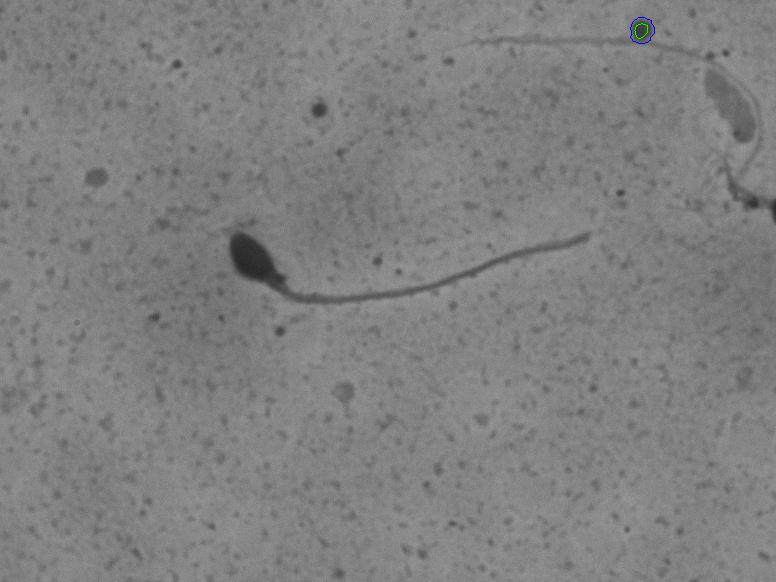Abnormal: (184, 139, 617, 374)
